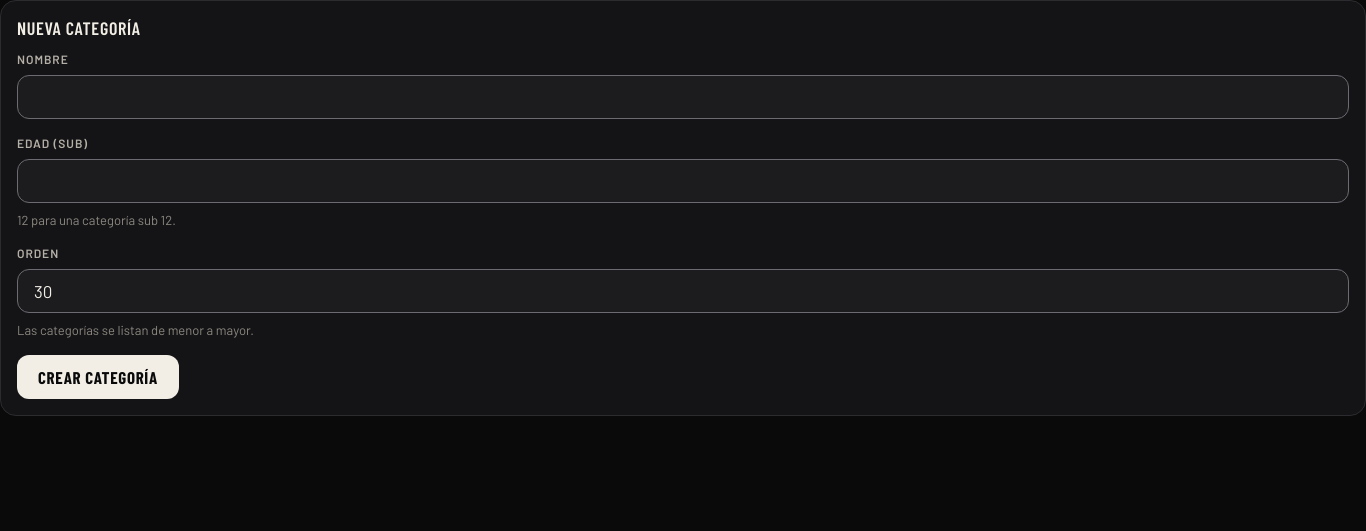
Test: CategoryEditor · una categoría nueva › la edad vacía no viaja como 0: viaja como «no es un número», y la rechaza la acción
Type "Mayores" into the field labelled "Nombre" at [683, 97], box [17,75,1349,119]
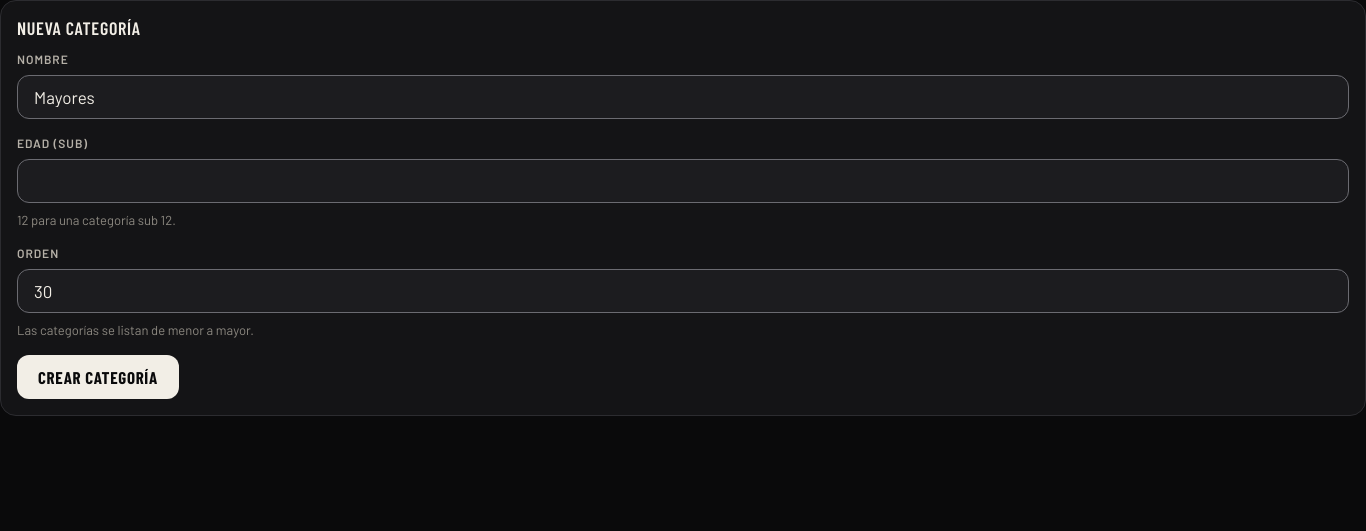
Click the button "Crear categoría" at [98, 377], box [17,355,179,399]
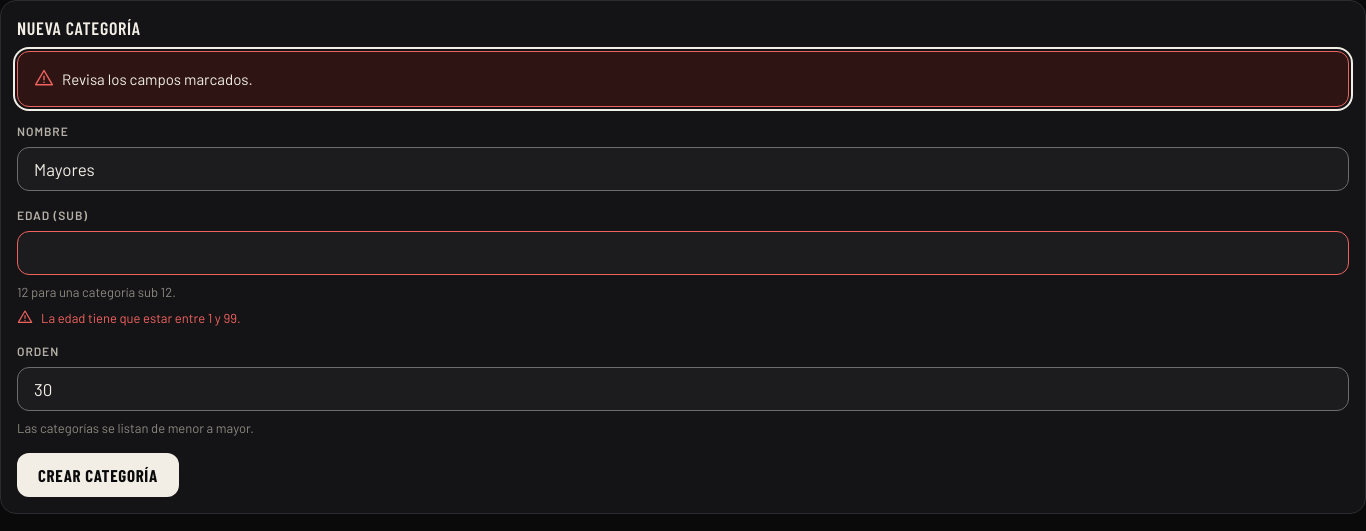
Expected: the text "La edad tiene que estar entre 1 y 99." is shown, [17,309,241,326]
